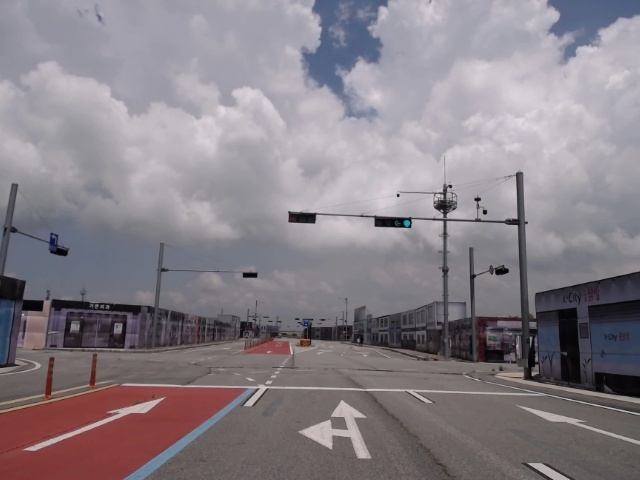all_green_4: (373, 216, 412, 227)
